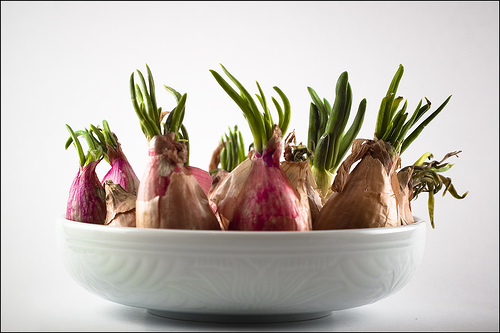onion: (315, 56, 453, 234), (208, 63, 315, 233), (129, 63, 219, 232), (82, 120, 142, 229), (64, 126, 107, 225), (66, 157, 108, 226)
